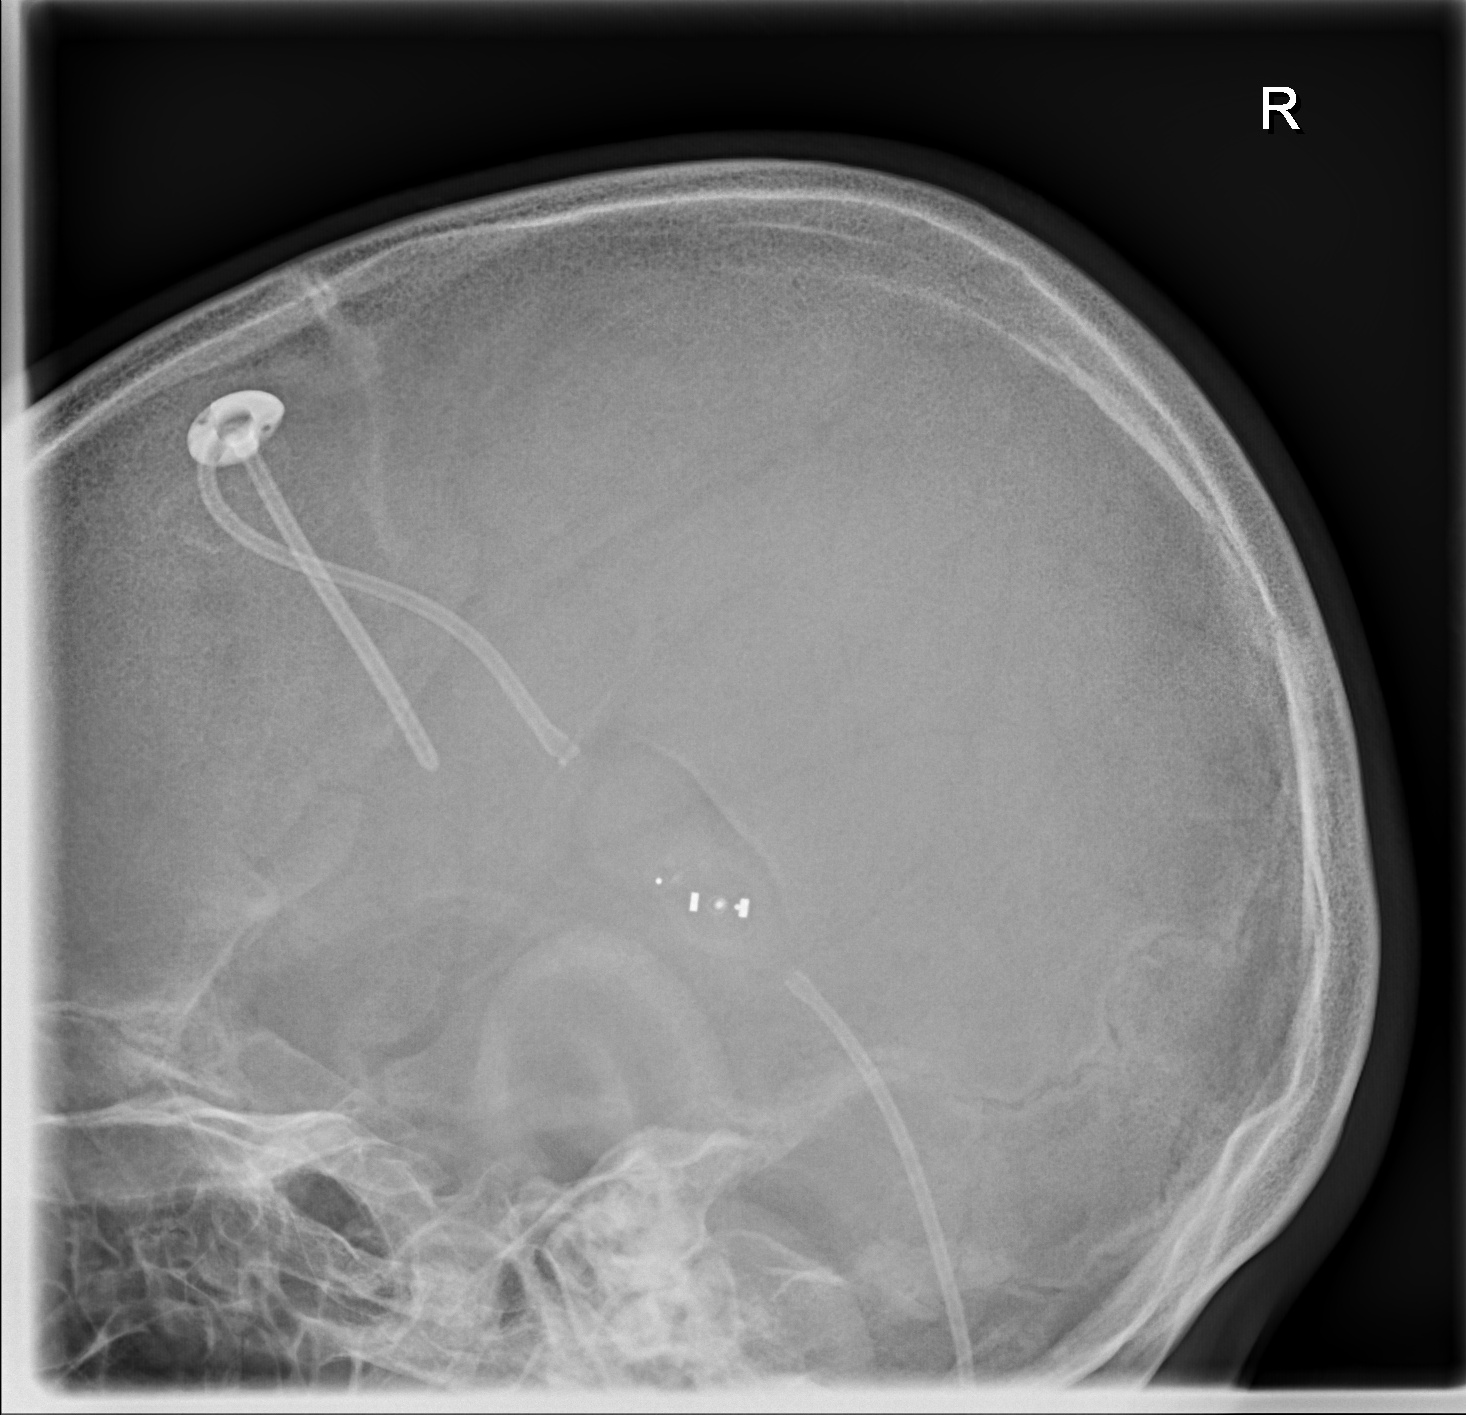Codman Certas: (634, 834, 787, 969)
